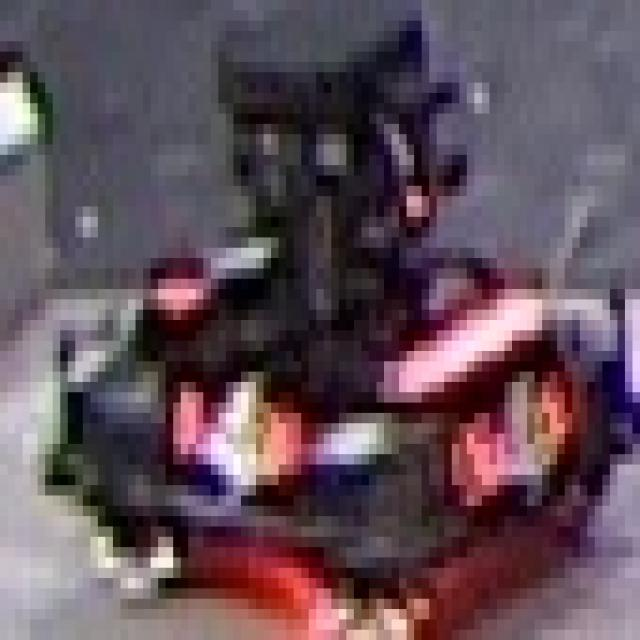R4: (166, 372, 301, 496), (452, 361, 564, 506)
